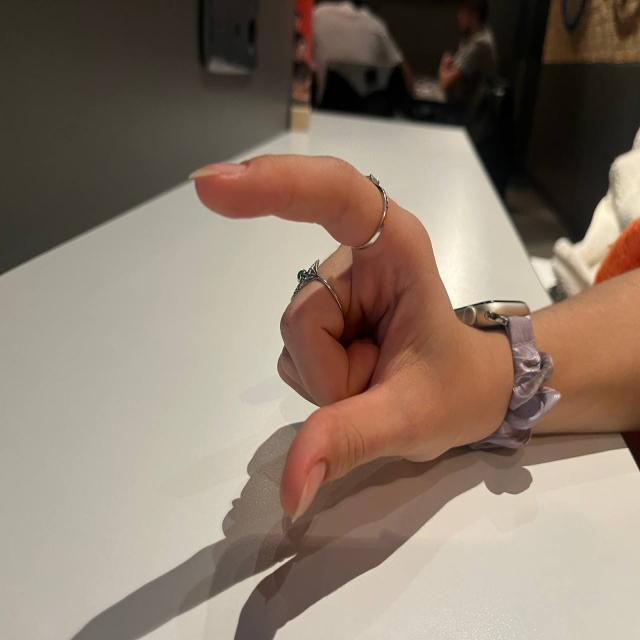uh: (186, 130, 464, 524)
